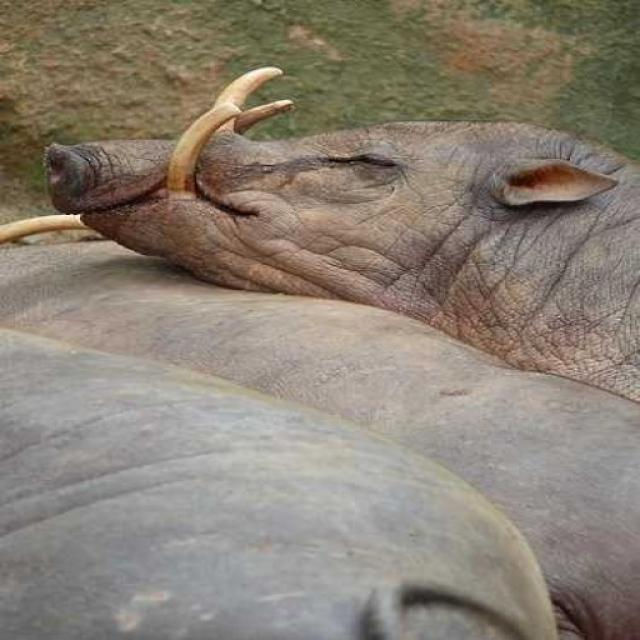pig: (34, 46, 640, 396)
